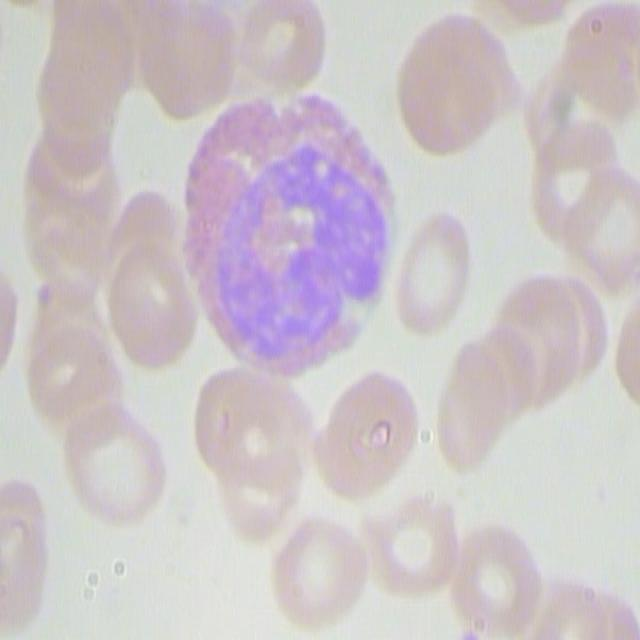RBC: (198, 355, 318, 550), (34, 0, 149, 172), (95, 186, 201, 370), (391, 8, 521, 156), (498, 267, 611, 408), (22, 128, 125, 280), (304, 364, 415, 502), (60, 400, 169, 533), (431, 326, 519, 471), (127, 0, 231, 121), (362, 484, 462, 604), (448, 520, 548, 638), (215, 1, 329, 100), (270, 514, 367, 630), (394, 210, 474, 342), (522, 128, 612, 242), (566, 168, 640, 294), (561, 6, 640, 119), (0, 477, 48, 631)
WBC: (202, 93, 402, 380)
